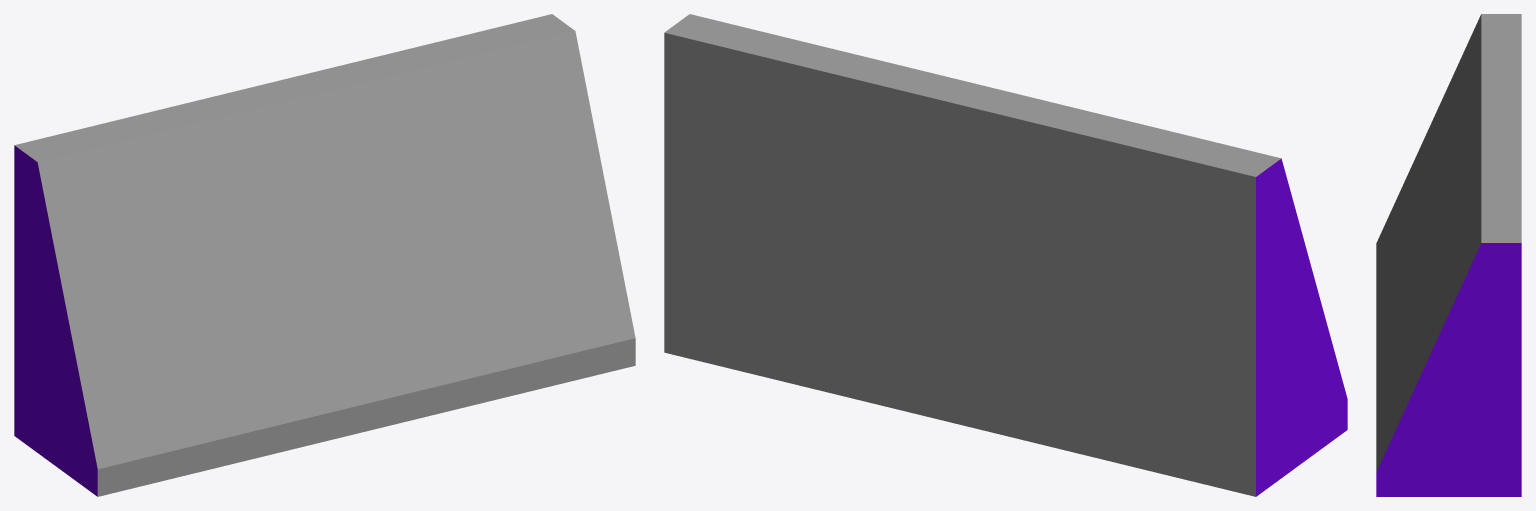
File: Barricade_Concrete_12.fbx
3 renders of one model, left to right at view 1: azimuth 30°, elevation 25°; view 2: azimuth 150°, elevation 25°; view 3: azimuth 270°, elevation 25°, orthographic. The views are drawn at different scales.
Visible parts, largest first — view 1: Obstacle_Barricade_Concrete_12; view 2: Obstacle_Barricade_Concrete_12; view 3: Obstacle_Barricade_Concrete_12.
Boxes of the visible parts, bbox=[...] form: Obstacle_Barricade_Concrete_12: bbox=[14, 14, 635, 496]; Obstacle_Barricade_Concrete_12: bbox=[664, 14, 1347, 496]; Obstacle_Barricade_Concrete_12: bbox=[1376, 14, 1521, 496].
Size of the model in its own units: 128 by 66.2 by 34.41.
1 material, 1 textured.
